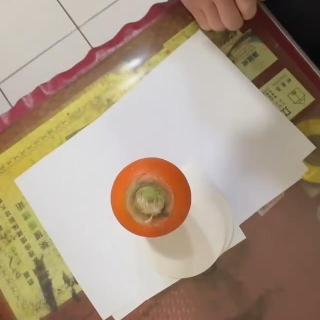carrot: (110, 156, 191, 240)
